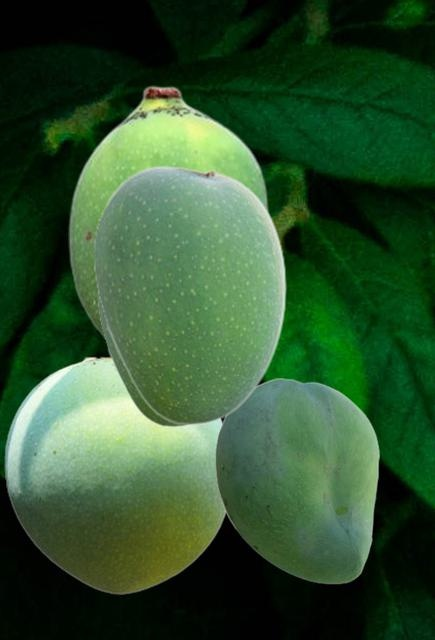green_mango: (68, 85, 283, 340), (4, 355, 227, 593), (93, 165, 286, 424), (215, 378, 378, 583), (97, 294, 192, 426)
